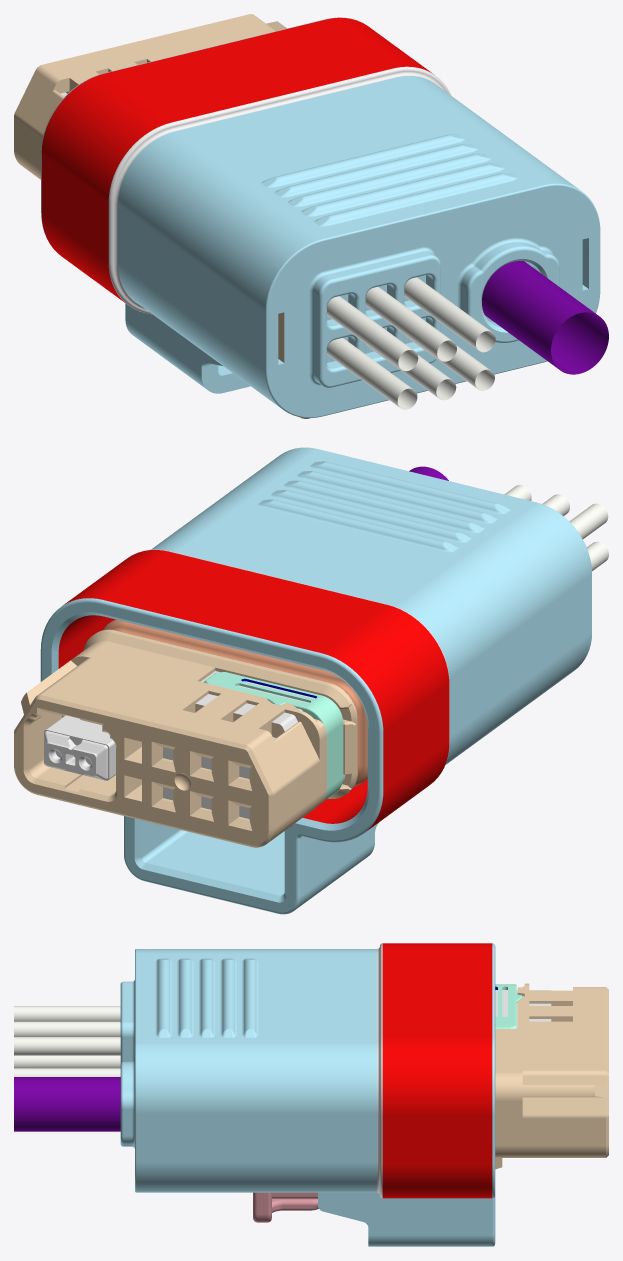
The model's file is NTHCF0B6X10S_2_C_0303_2.gltf.
The picture shows the model from 3 angles, top to bottom: view 1: azimuth 30°, elevation 25°; view 2: azimuth 150°, elevation 25°; view 3: azimuth 270°, elevation 25°; orthographic projection. The views are drawn at different scales.
Parts seen in each view (by area): view 1: mesh1796, mesh1971, mesh1372, mesh1347, mesh1373, mesh1970, mesh1348, mesh1024, mesh1349, mesh1374, mesh1381, mesh1806 (+32 smaller); view 2: mesh1971, mesh1372, mesh1347, mesh1024, mesh754, mesh1341, mesh1373, mesh1348, mesh1293, mesh1349, mesh1374, mesh1381 (+35 smaller); view 3: mesh1381, mesh1971, mesh1379, mesh1347, mesh1354, mesh1024, mesh1377, mesh1324, mesh1970, mesh1339, mesh1335, mesh850 (+20 smaller).
Boxes of the visible parts, x1,y1,x2,y2 form: mesh1796: (267, 185, 599, 416); mesh1971: (175, 77, 542, 238); mesh1372: (118, 131, 321, 311); mesh1347: (104, 19, 392, 122); mesh1373: (118, 205, 265, 370); mesh1970: (482, 261, 608, 374); mesh1348: (41, 73, 170, 202); mesh1024: (42, 14, 272, 84); mesh1349: (41, 154, 108, 261); mesh1374: (118, 264, 280, 407); mesh1381: (397, 76, 579, 189); mesh1806: (323, 259, 439, 385); mesh1971: (176, 449, 535, 606); mesh1372: (394, 502, 591, 677); mesh1347: (103, 551, 387, 653); mesh1024: (42, 641, 299, 744); mesh754: (15, 699, 268, 845); mesh1341: (42, 602, 378, 912); mesh1373: (449, 574, 591, 735); mesh1348: (322, 605, 449, 732); mesh1293: (147, 831, 284, 895); mesh1349: (383, 685, 449, 790); mesh1374: (445, 633, 591, 764); mesh1381: (151, 447, 316, 552); mesh1381: (136, 1042, 376, 1113); mesh1971: (136, 954, 376, 1042); mesh1379: (136, 1113, 376, 1161); mesh1347: (382, 948, 492, 1037); mesh1354: (382, 1037, 492, 1115); mesh1024: (495, 985, 605, 1072); mesh1377: (136, 1161, 376, 1192); mesh1324: (318, 1192, 492, 1234); mesh1970: (14, 1077, 120, 1131); mesh1339: (382, 1116, 492, 1164); mesh1335: (382, 1164, 492, 1198); mesh850: (495, 1101, 605, 1145).
Bounding box in the file's own units: 0.0227 × 0.0172 × 0.0413.
